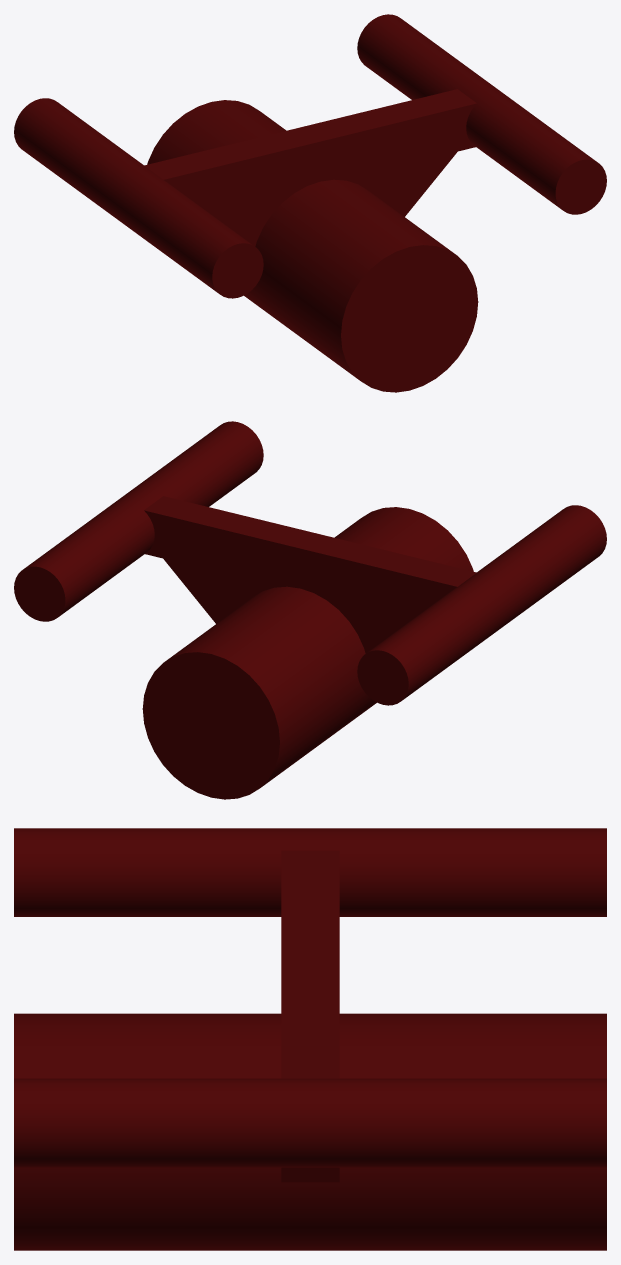
The model's file is vektrack.obj.
3 renders of one model, top to bottom at view 1: azimuth 30°, elevation 25°; view 2: azimuth 150°, elevation 25°; view 3: azimuth 270°, elevation 25°, orthographic. The views are drawn at different scales.
Size of the model in its own units: 1.26 by 0.5775 by 1.1.
